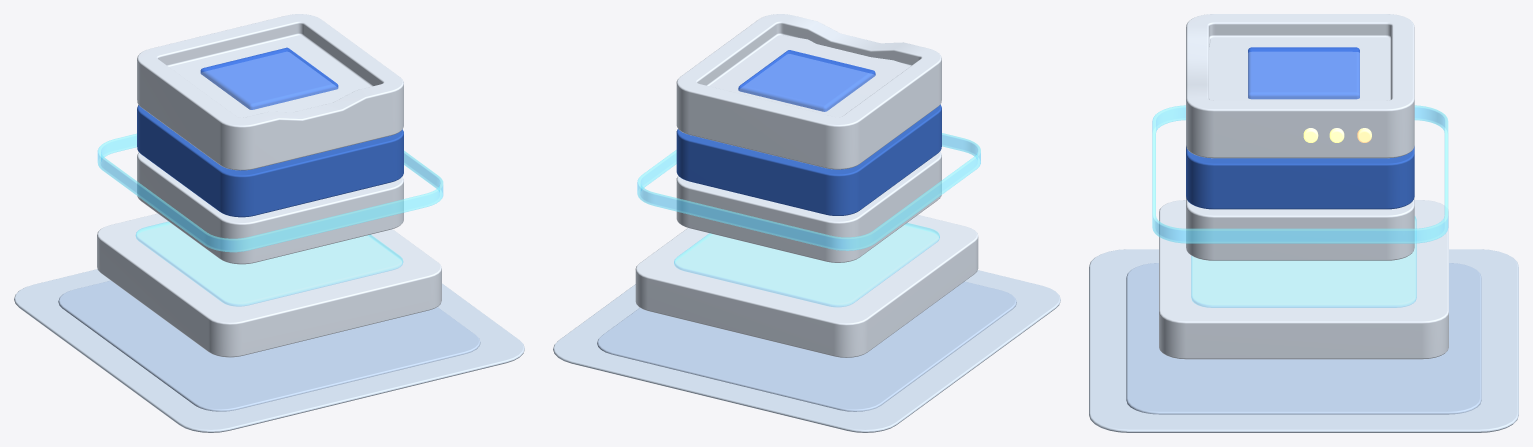
The model's file is home-server.glb.
3 renders of one model, left to right at view 1: azimuth 30°, elevation 25°; view 2: azimuth 150°, elevation 25°; view 3: azimuth 270°, elevation 25°, orthographic. The views are drawn at different scales.
Parts seen in each view (by area): view 1: 立方体.009, 立方体.005, 立方体, 立方体.001, 立方体.003, 立方体.004, 立方体.002, 立方体.006, 立方体.007; view 2: 立方体.009, 立方体.005, 立方体, 立方体.001, 立方体.003, 立方体.004, 立方体.002, 立方体.006, 立方体.007; view 3: 立方体.009, 立方体.005, 立方体, 立方体.001, 立方体.003, 立方体.004, 立方体.002, 立方体.006, 立方体.007.
Part boxes in pixels (bbox=[...]): 立方体.009: bbox=[97, 213, 441, 357]; 立方体.005: bbox=[137, 14, 403, 170]; 立方体: bbox=[58, 280, 480, 411]; 立方体.001: bbox=[14, 269, 524, 432]; 立方体.003: bbox=[137, 152, 403, 264]; 立方体.004: bbox=[137, 105, 403, 217]; 立方体.002: bbox=[135, 221, 403, 306]; 立方体.006: bbox=[97, 133, 443, 252]; 立方体.007: bbox=[200, 47, 338, 109]; 立方体.009: bbox=[635, 215, 978, 357]; 立方体.005: bbox=[676, 14, 941, 169]; 立方体: bbox=[597, 281, 1016, 411]; 立方体.001: bbox=[553, 270, 1060, 432]; 立方体.003: bbox=[676, 151, 941, 262]; 立方体.004: bbox=[676, 104, 941, 215]; 立方体.002: bbox=[674, 223, 939, 306]; 立方体.006: bbox=[637, 133, 980, 250]; 立方体.007: bbox=[738, 50, 875, 111]; 立方体.009: bbox=[1159, 200, 1448, 359]; 立方体.005: bbox=[1186, 14, 1414, 158]; 立方体: bbox=[1126, 263, 1481, 414]; 立方体.001: bbox=[1089, 249, 1518, 432]; 立方体.003: bbox=[1186, 197, 1414, 260]; 立方体.004: bbox=[1186, 146, 1414, 209]; 立方体.002: bbox=[1191, 216, 1416, 307]; 立方体.006: bbox=[1152, 105, 1448, 243]; 立方体.007: bbox=[1248, 47, 1359, 99].
Size of the model in its own units: 2.36 by 1.7 by 2.36.
